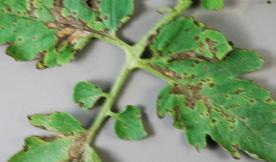Tomato Septoria leaf spot: (148, 15, 276, 162), (0, 0, 139, 76), (0, 107, 121, 162)
